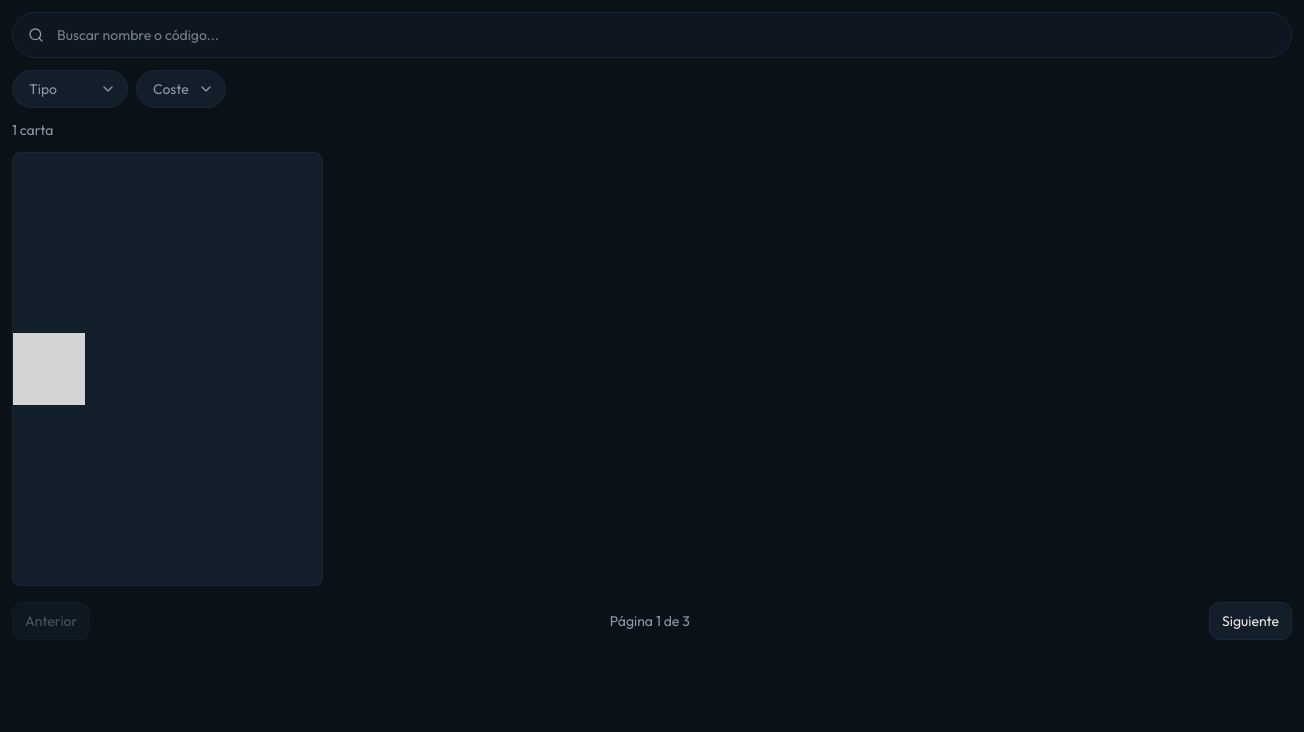
Scenario: CardCatalog › vuelve a la página anterior
Click the button "Siguiente".
click(1251, 621)  # box [1209, 602, 1292, 640]
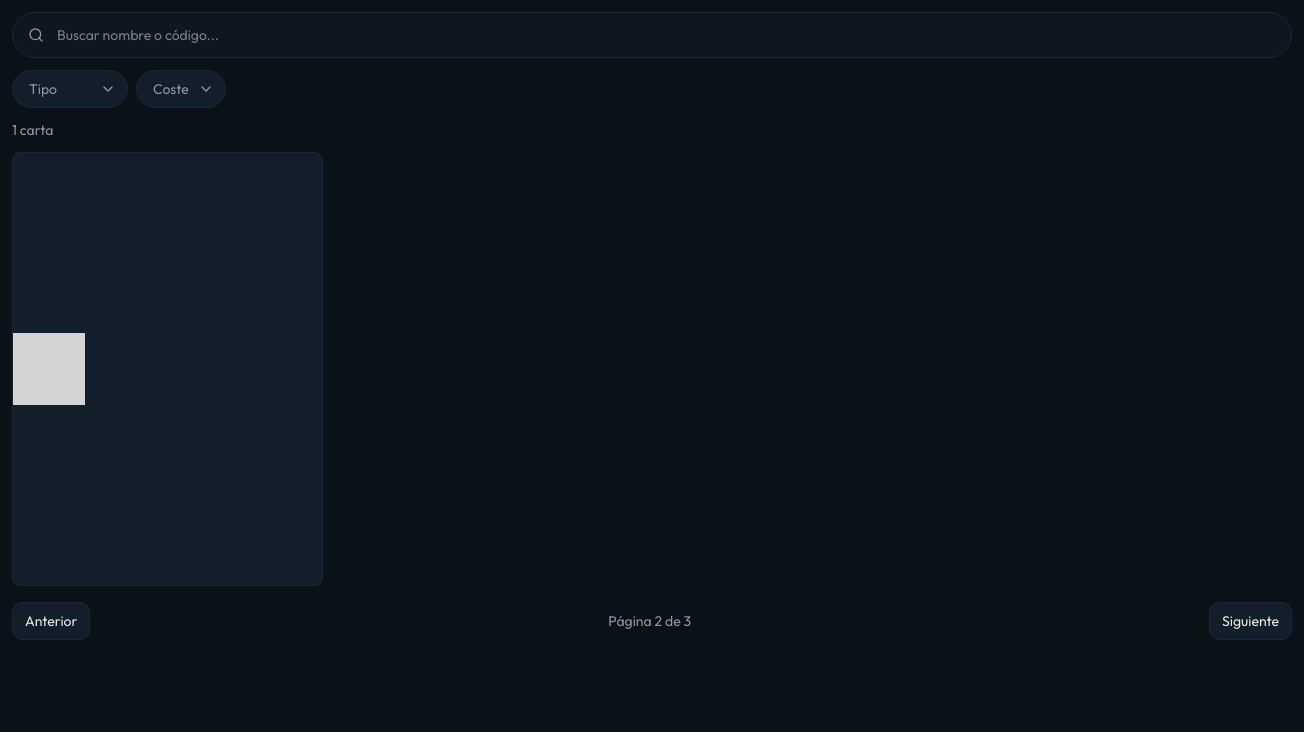
Click the button "Anterior".
click(51, 621)  # box [12, 602, 90, 640]
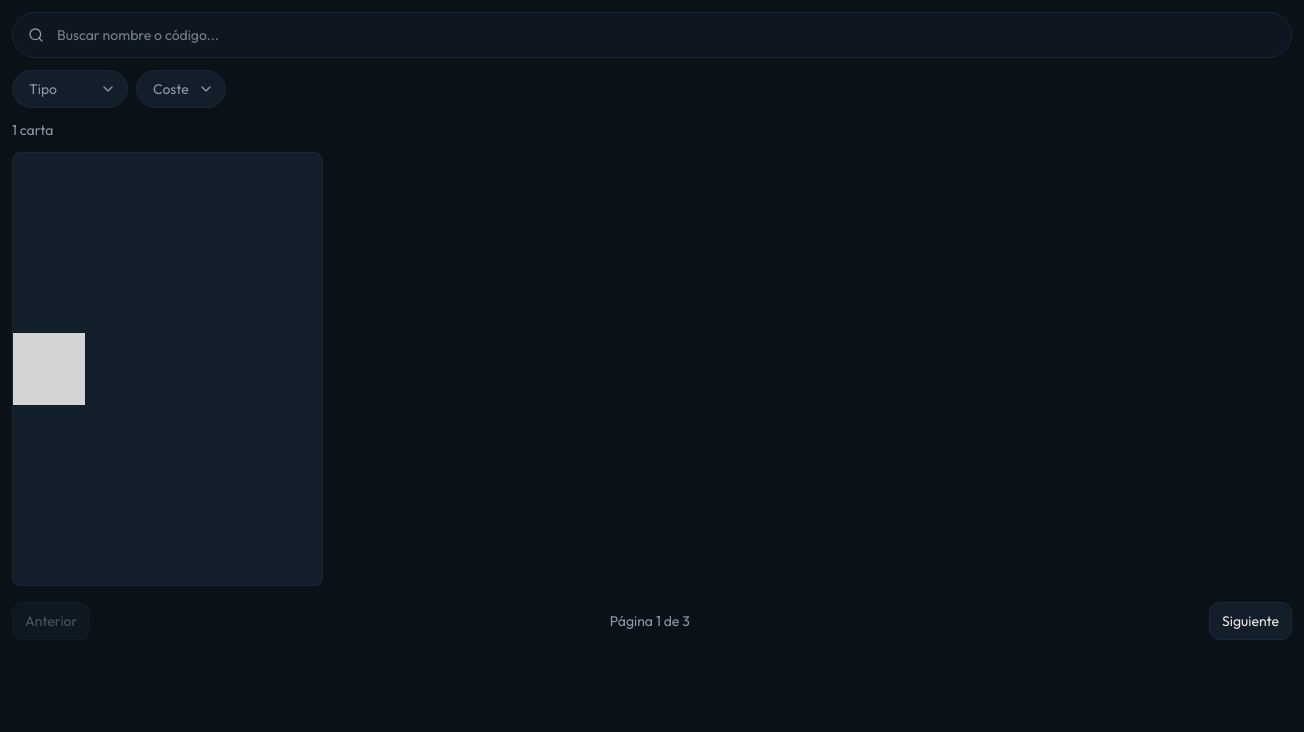
Check: the text "Página 1 de 3" is shown, box [610, 611, 690, 631]
